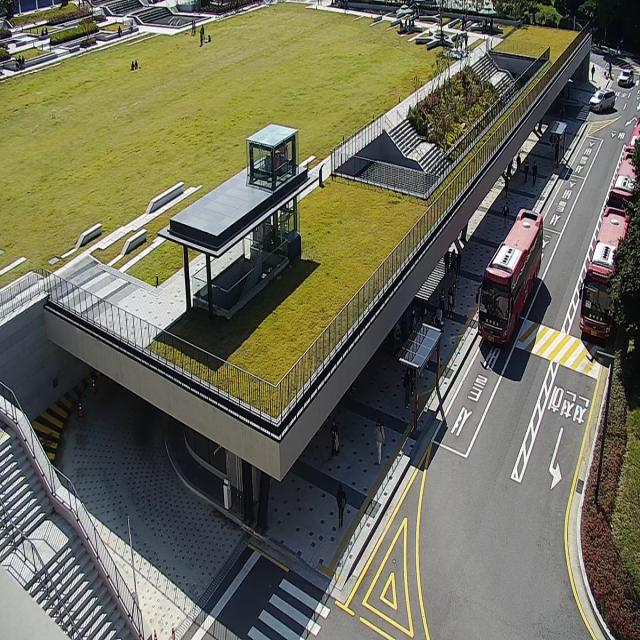queue: (405, 279, 459, 412)
